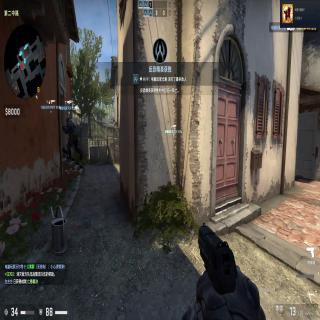CT-Body: (61, 116, 83, 164)
CT-Head: (66, 116, 72, 122)
